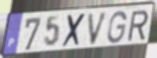5: (43, 14, 61, 50)
7: (24, 17, 43, 52)
G: (106, 10, 128, 45)
R: (126, 9, 150, 43)
V: (87, 10, 110, 47)
X: (61, 13, 87, 50)
